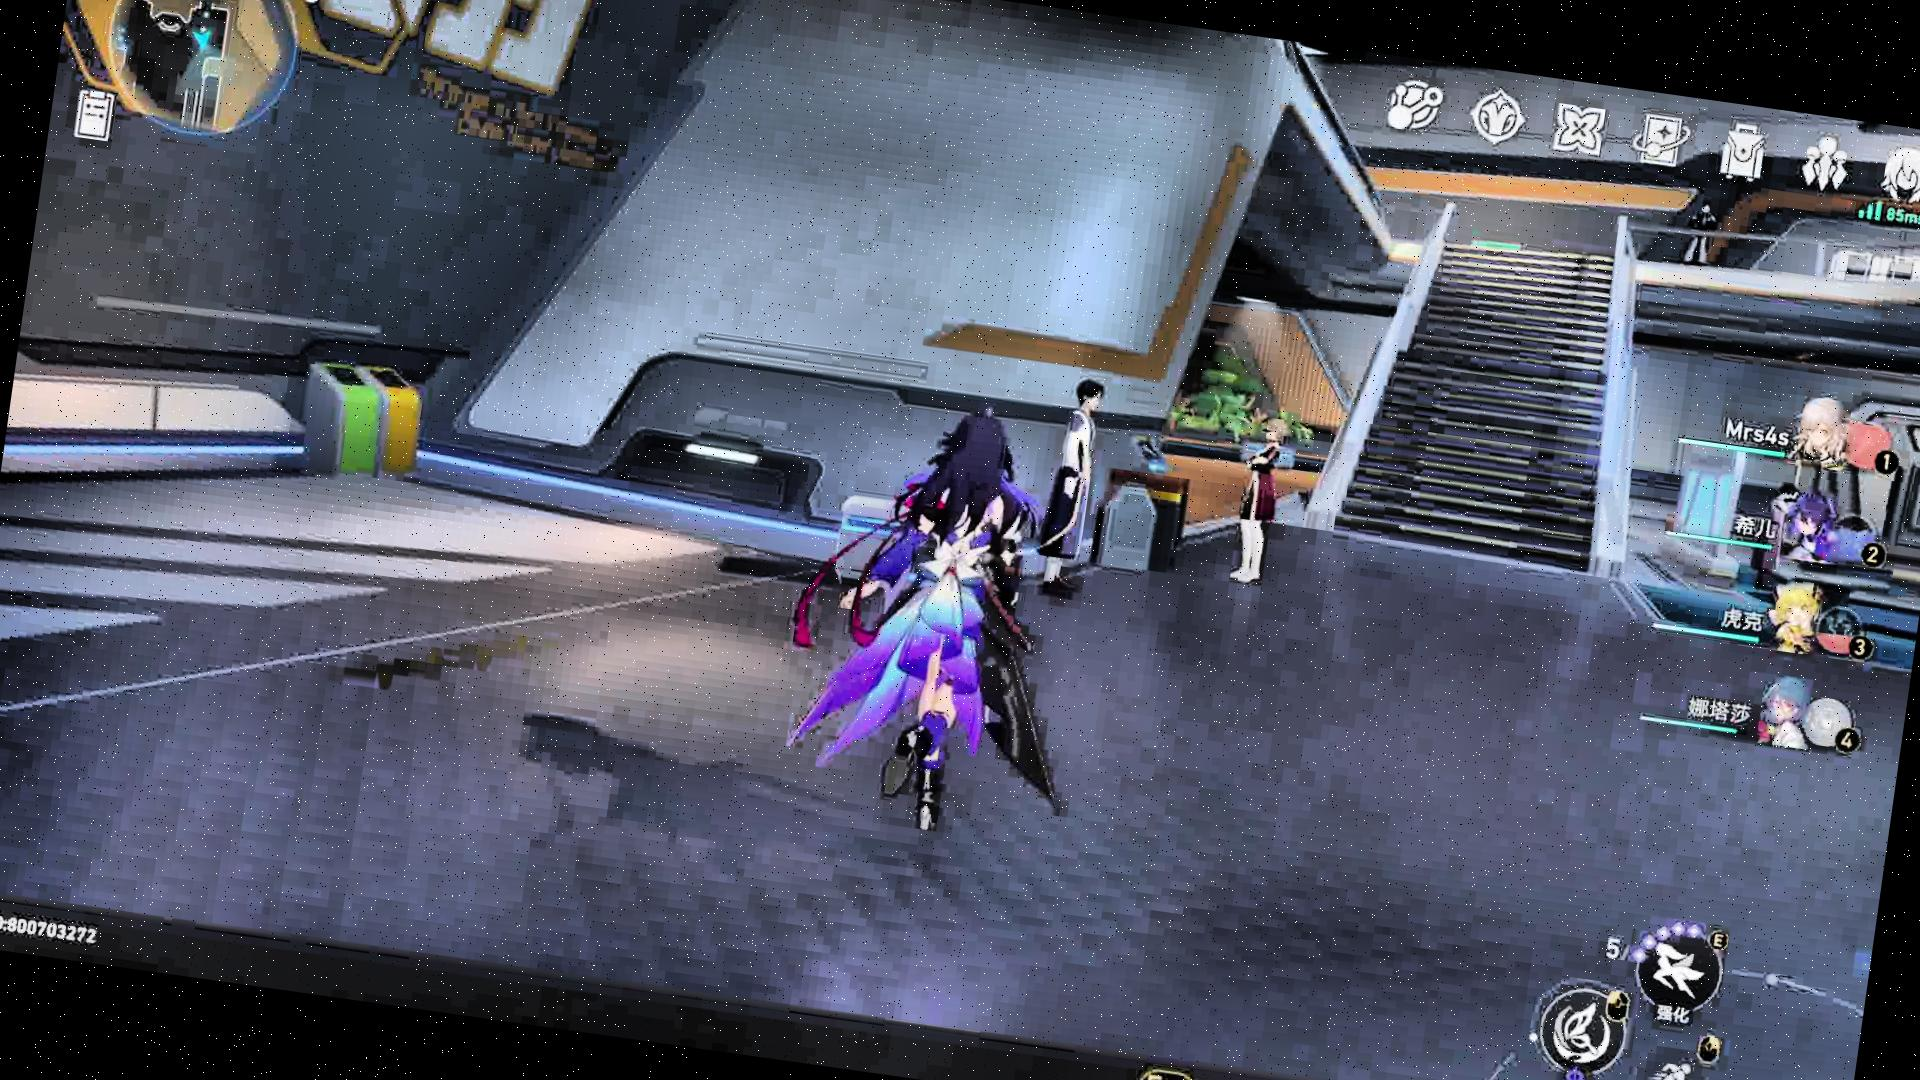Self: (769, 393, 1120, 858)
TeamMate: (1030, 371, 1118, 608), (1215, 411, 1300, 592)
